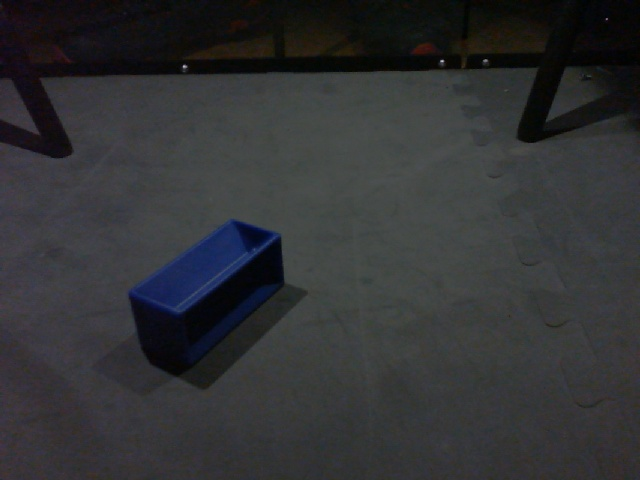BlueSample: (127, 215, 286, 369)
